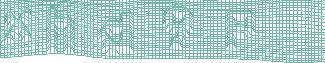9: (160, 5, 195, 51)
P: (223, 9, 256, 53)
d: (95, 10, 133, 58)
h: (45, 5, 76, 57)
x: (1, 8, 34, 46)
